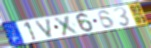1: (24, 21, 39, 42)
3: (113, 6, 132, 28)
6: (75, 12, 95, 33), (97, 10, 116, 29)
V: (34, 17, 54, 39)
X: (52, 14, 82, 37)
